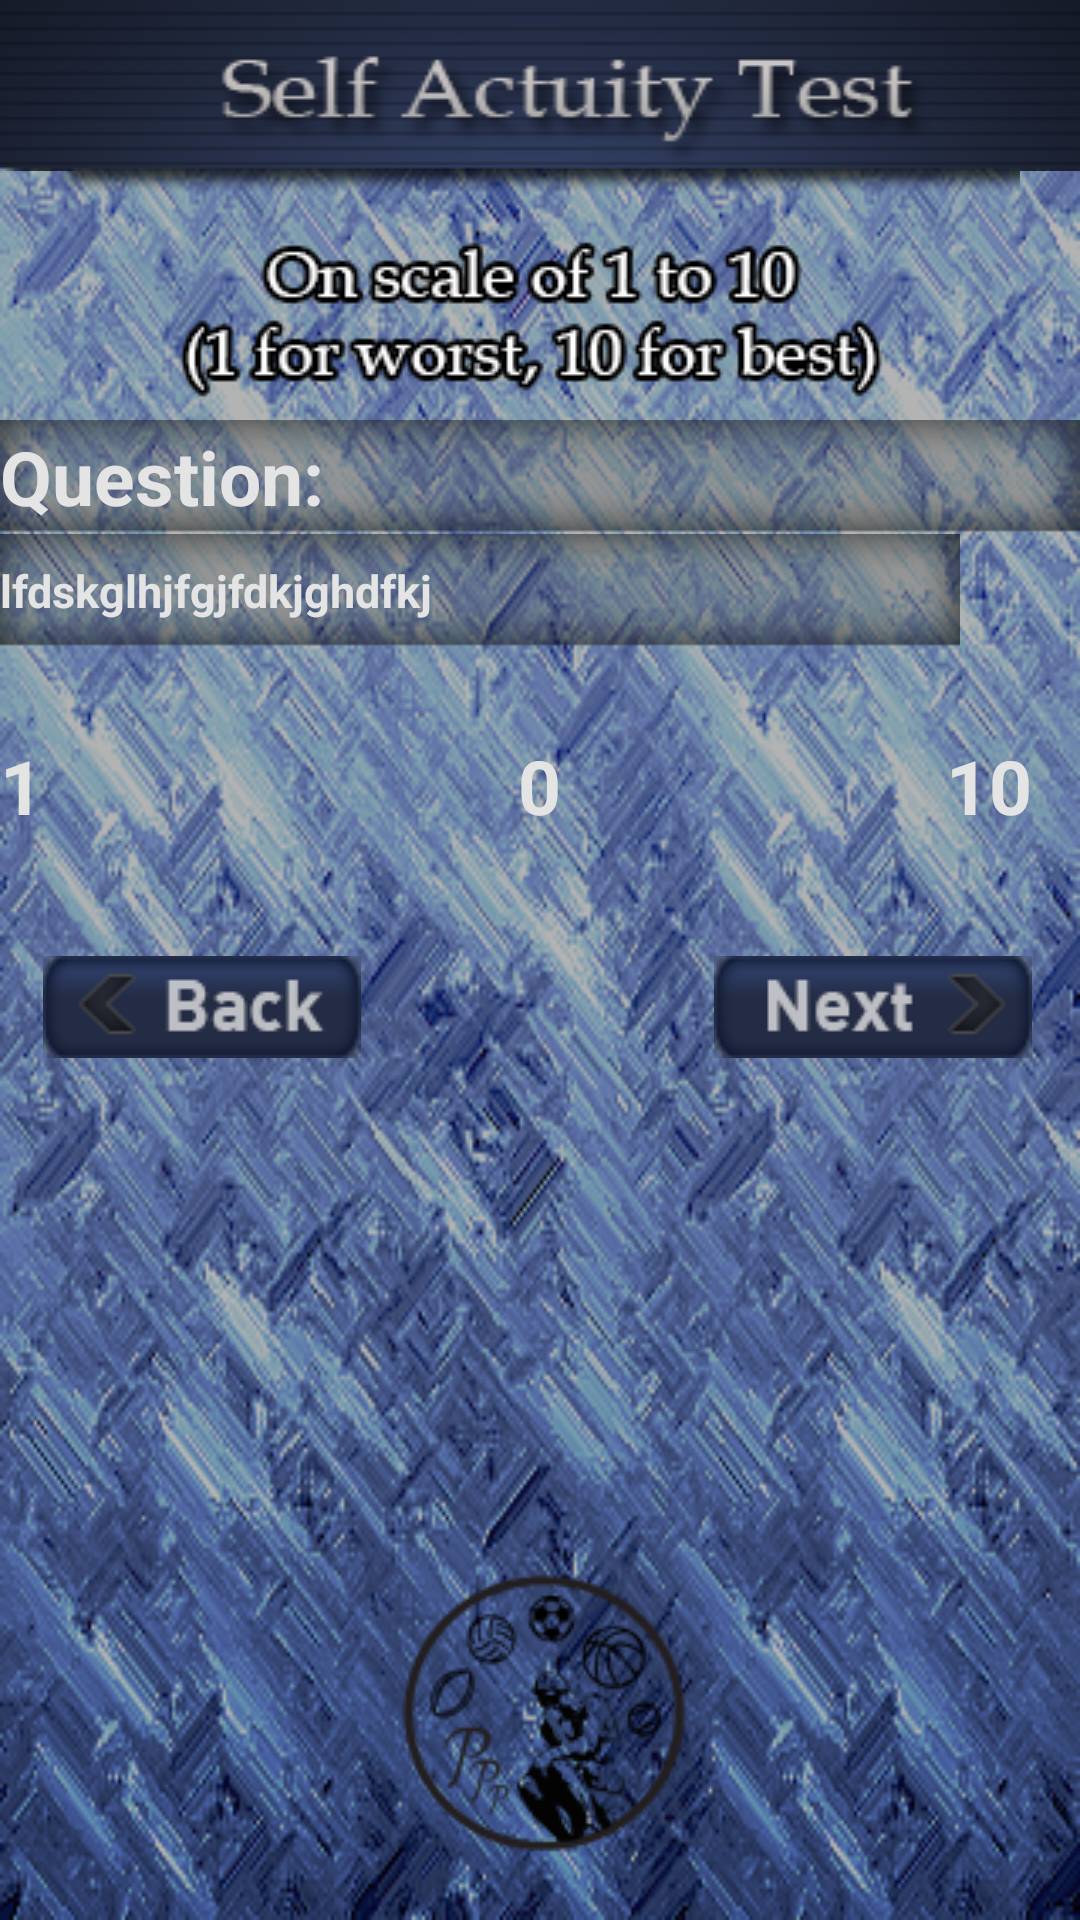

Screen size 1080 × 1920. Icon name, then its box in pixels as (x1, y1, x2, y2):
circle: (382, 1557, 697, 1860)
